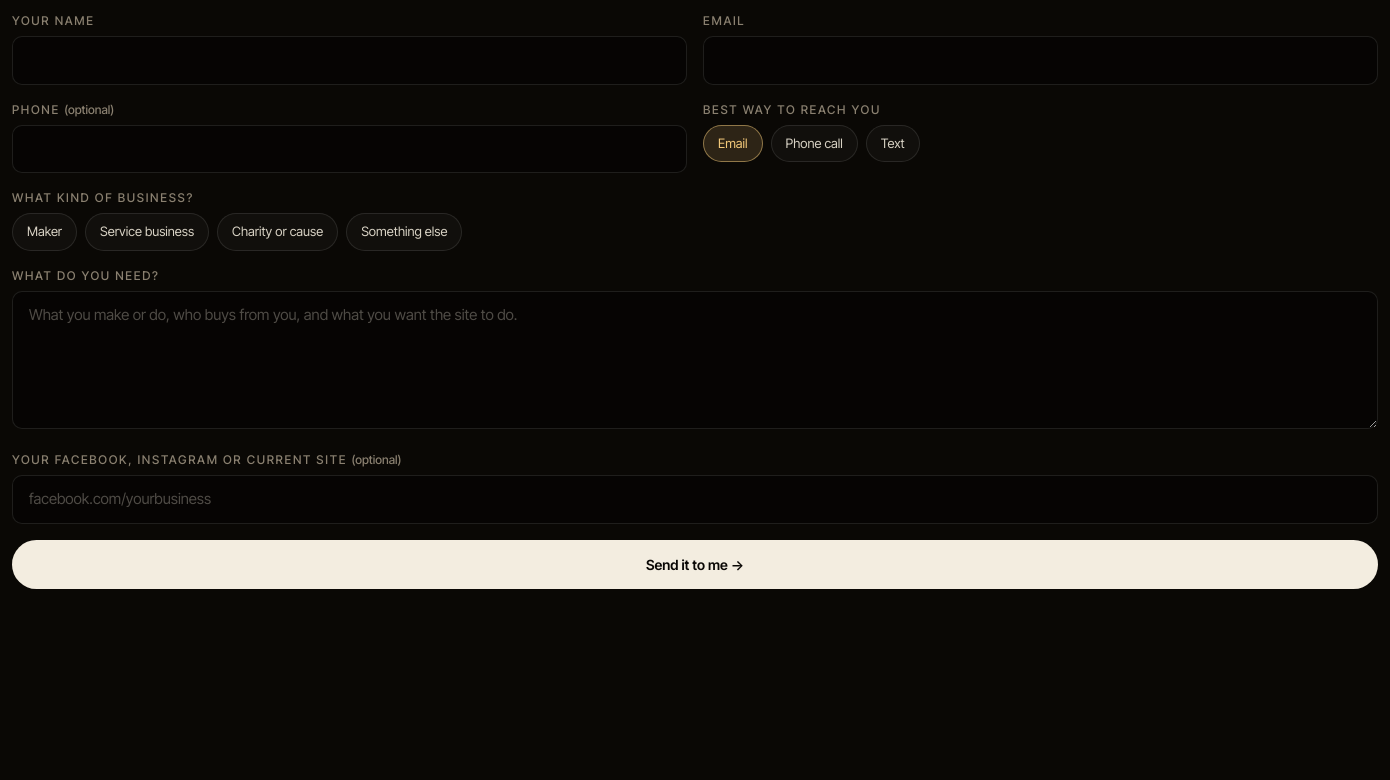
Test: InquiryForm › asks for the kind of business before sending
Type "Pat" into the field labelled "Your name" at (350, 60), box [12,36,687,84]
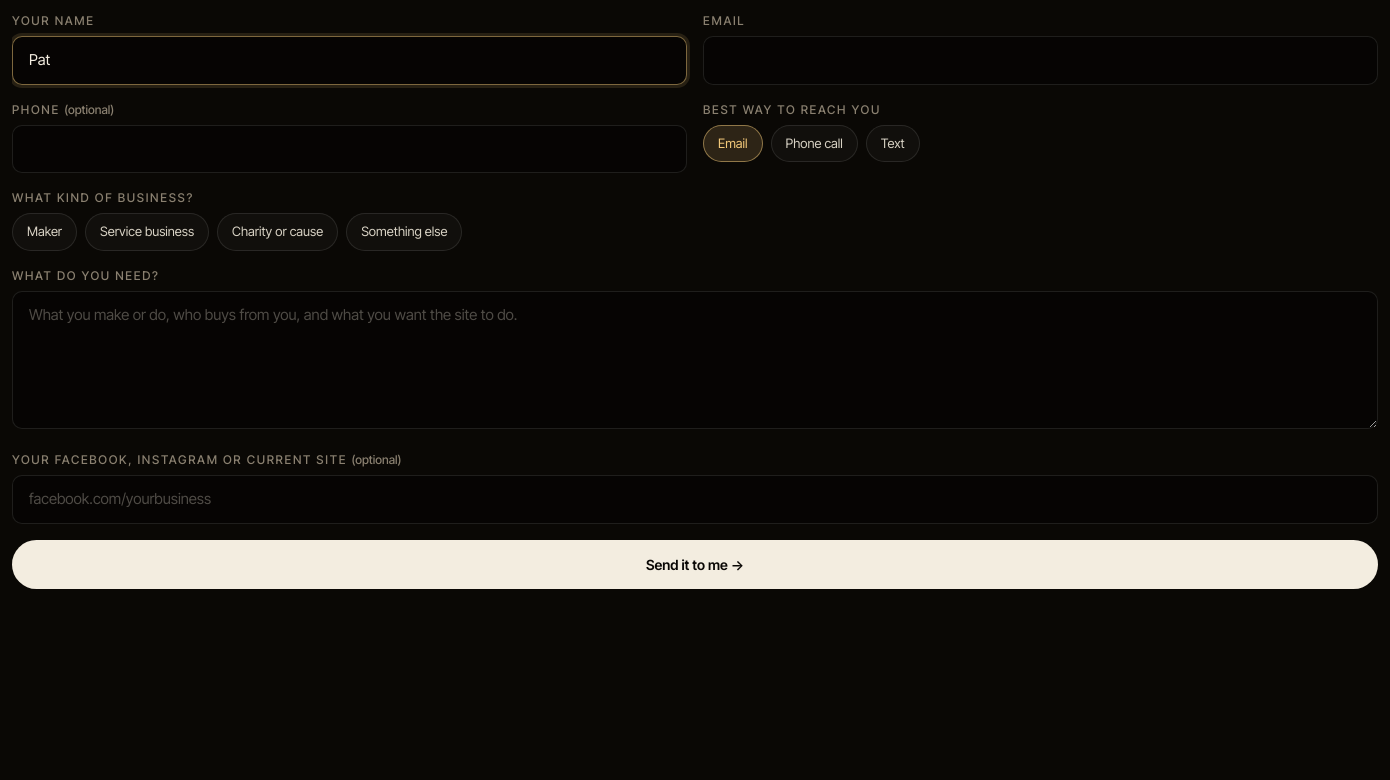
Type "pat@example.com" into the field labelled "Email" at (1040, 60), box [703,36,1378,84]
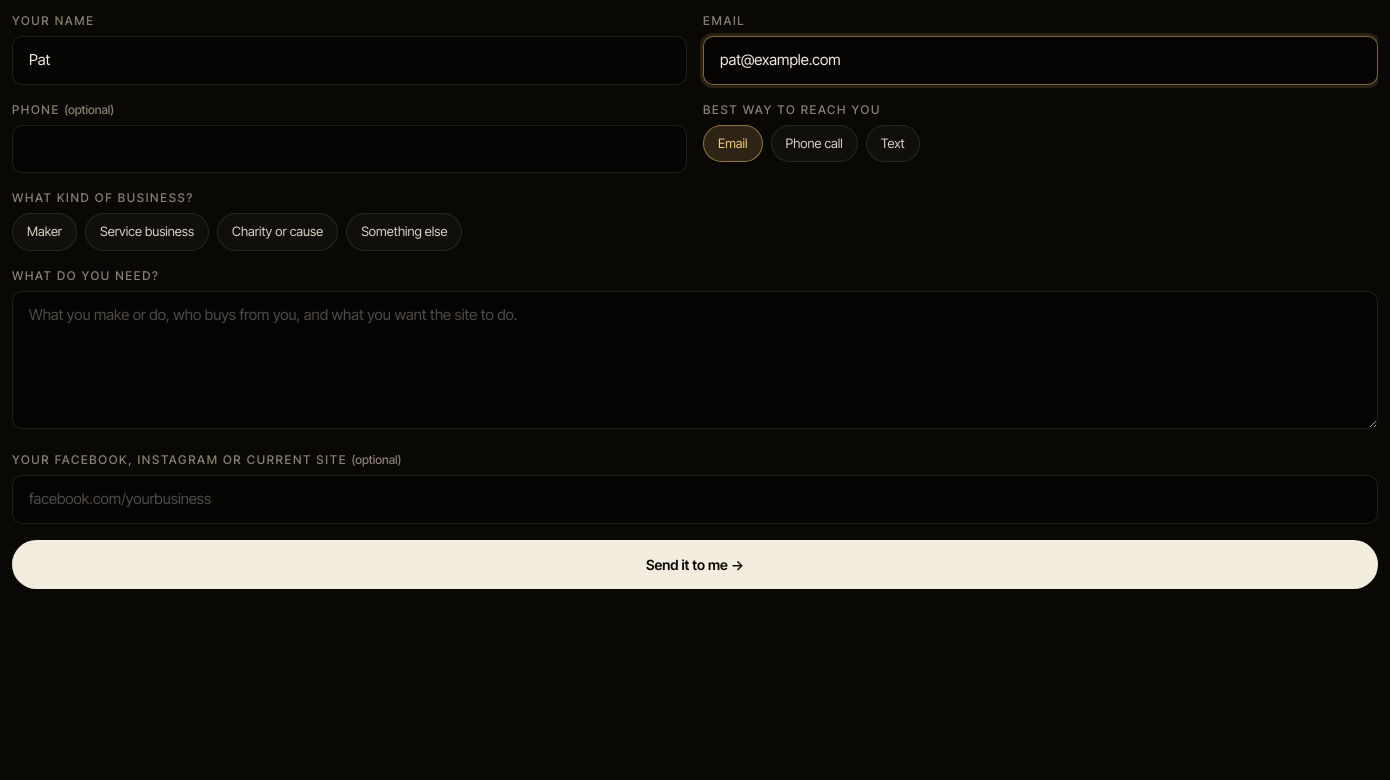
Type "A site" into the text box labelled "What do you need?" at (695, 360), box [12,290,1378,429]
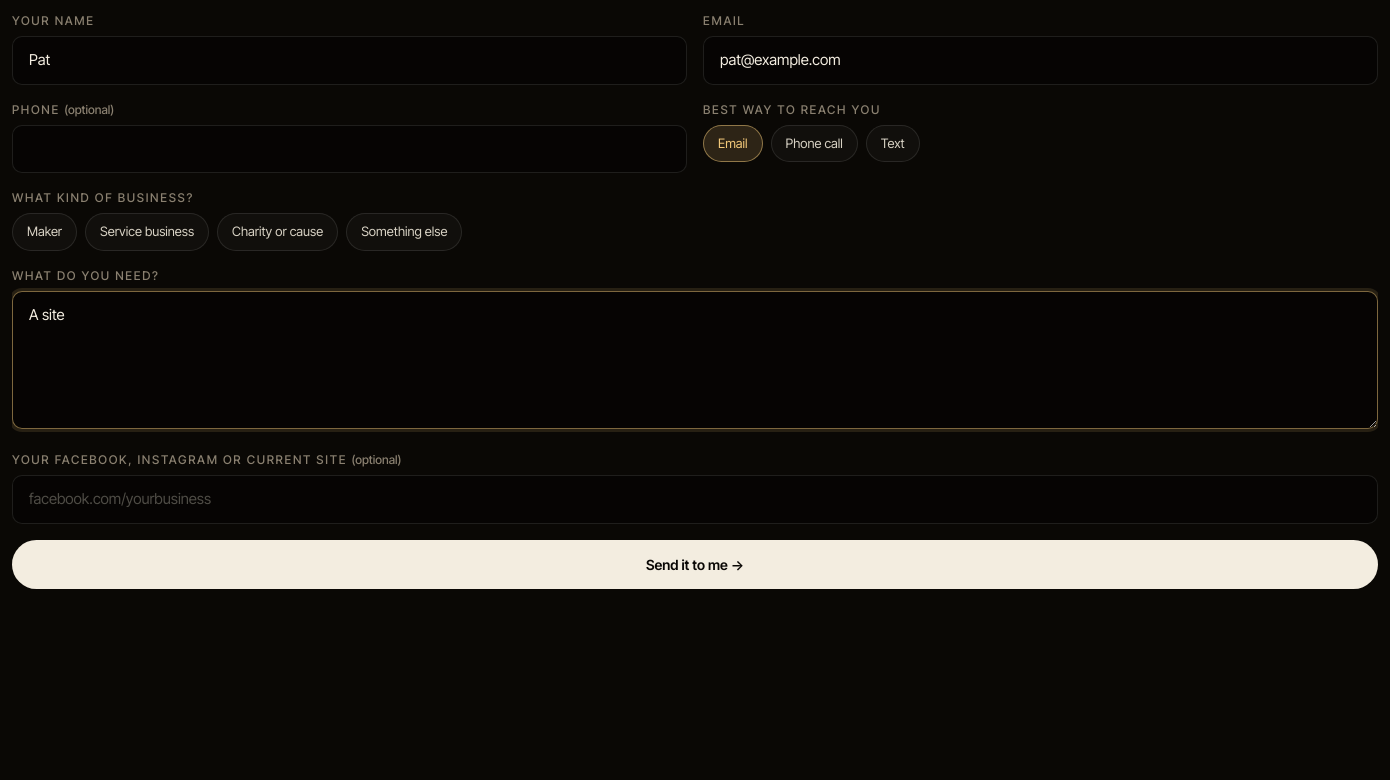
Click the button "Send it to me →" at (695, 564), box [12,540,1378,588]
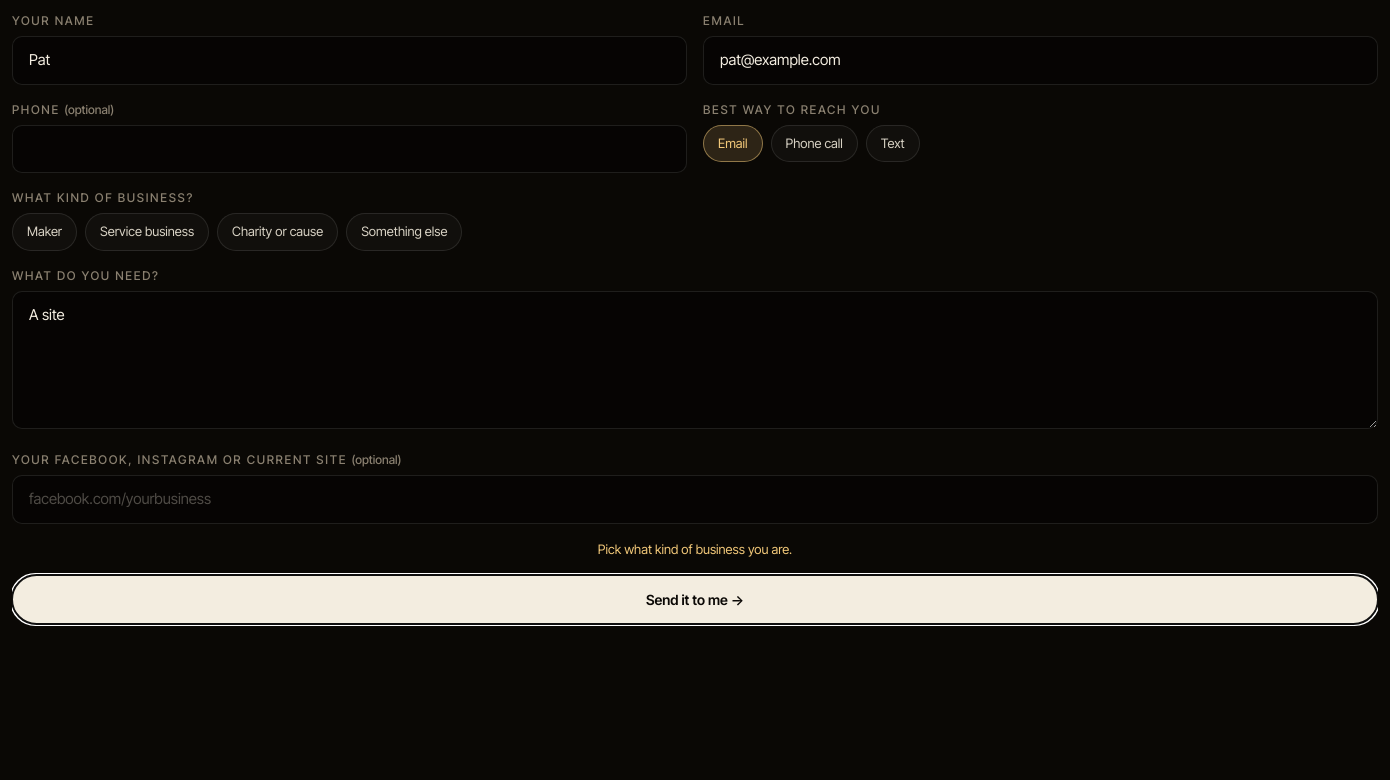
Expected: the message shows "kind of business", [598,540,792,556]
